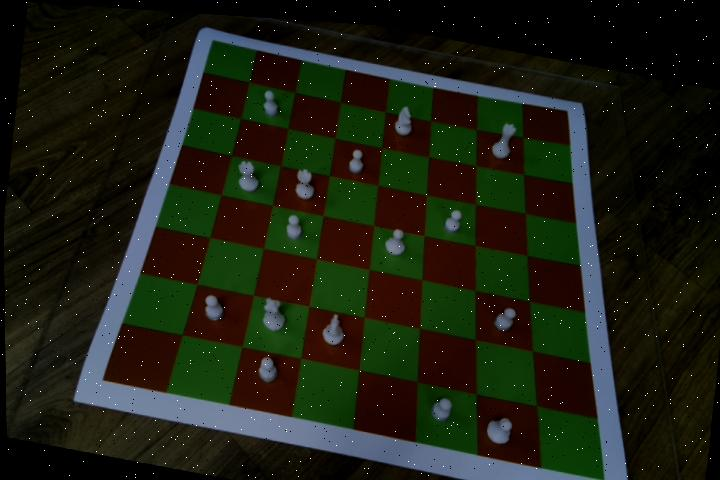chessboard-detect: (101, 36, 603, 471)
